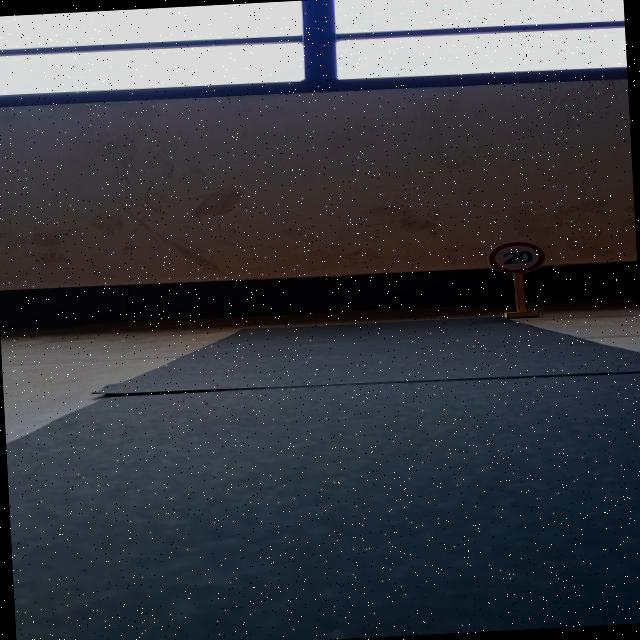Speed20: (484, 238, 554, 280)
